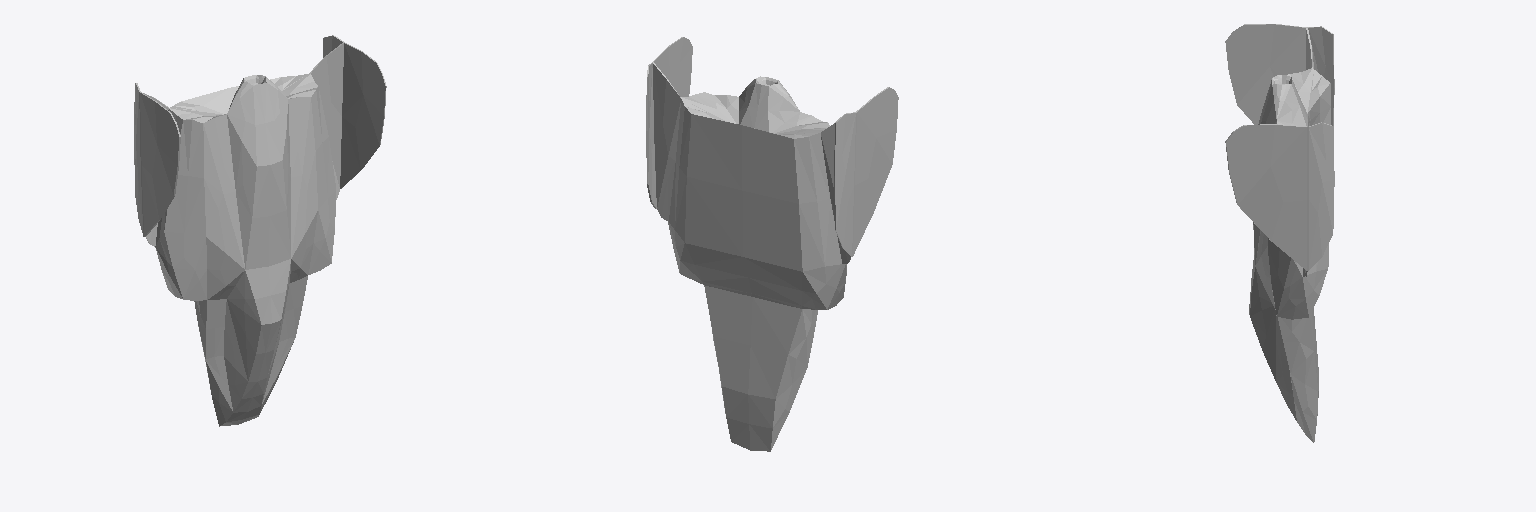
The model's file is blue.obj.
The picture shows the model from 3 angles: view 1: azimuth 30°, elevation 25°; view 2: azimuth 150°, elevation 25°; view 3: azimuth 270°, elevation 25°; orthographic projection.
Parts seen in each view (by area): view 1: BlueFalcon; view 2: BlueFalcon; view 3: BlueFalcon.
Part boxes in pixels (x1,y1,x2,y2): BlueFalcon: (134,35,386,426); BlueFalcon: (646,37,898,451); BlueFalcon: (1225,24,1334,442).
Bounding box in the file's own units: 1.53 × 2.56 × 0.6979.